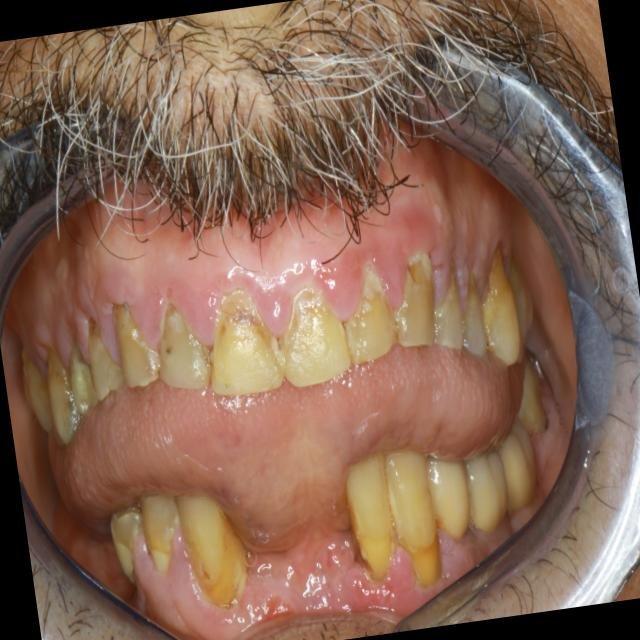tooth: (198, 273, 295, 416), (169, 475, 260, 618), (378, 434, 453, 594), (335, 444, 407, 591), (272, 279, 360, 396), (332, 247, 407, 378), (142, 288, 220, 412), (380, 236, 450, 363), (470, 230, 529, 375), (488, 405, 548, 522), (33, 336, 90, 456), (418, 437, 480, 547), (101, 294, 165, 400), (457, 437, 516, 540), (101, 494, 160, 596), (133, 481, 193, 581), (422, 251, 471, 360), (76, 315, 129, 413), (11, 338, 61, 439), (452, 258, 495, 367), (500, 239, 542, 350), (61, 332, 106, 423), (507, 351, 552, 441)
